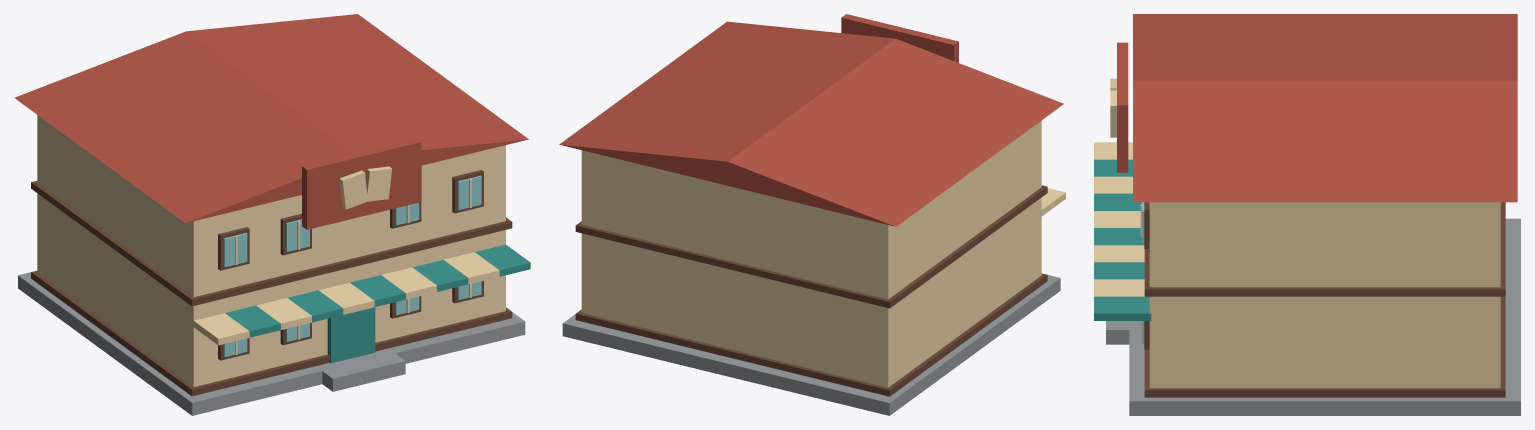
Rendered from library.glb.
3 renders of one model, left to right at view 1: azimuth 30°, elevation 25°; view 2: azimuth 150°, elevation 25°; view 3: azimuth 270°, elevation 25°, orthographic. The views are drawn at different scales.
Parts seen in each view (by area): view 1: gable_roof, walls, foundation, signboard, cornice.001, cornice, step, door, awning, awning.001, awning.008, awning.009 (+13 smaller); view 2: walls, gable_roof, foundation, cornice, cornice.001, signboard; view 3: gable_roof, walls, foundation, cornice, cornice.001, signboard, awning.009, awning.006, awning.007, awning.008, awning.005, awning.004 (+5 smaller).
Part boxes in pixels (x1,y1,x2,y2): gable_roof: [14, 14, 528, 223]; walls: [37, 115, 505, 386]; foundation: [18, 272, 525, 415]; signboard: [302, 138, 421, 229]; cornice.001: [31, 181, 512, 306]; cornice: [31, 270, 512, 396]; step: [316, 348, 405, 391]; door: [327, 307, 375, 363]; awning: [193, 313, 249, 345]; awning.001: [225, 305, 280, 337]; awning.008: [444, 252, 499, 284]; awning.009: [475, 244, 530, 276]; walls: [581, 120, 1041, 387]; gable_roof: [559, 21, 1063, 226]; foundation: [562, 275, 1060, 415]; cornice: [575, 273, 1047, 396]; cornice.001: [575, 185, 1047, 308]; signboard: [841, 14, 958, 62]; gable_roof: [1133, 14, 1517, 202]; walls: [1149, 202, 1500, 388]; foundation: [1129, 218, 1520, 415]; cornice: [1144, 296, 1505, 397]; cornice.001: [1144, 202, 1505, 296]; signboard: [1117, 42, 1128, 172]; awning.009: [1094, 296, 1151, 320]; awning.006: [1094, 245, 1144, 262]; awning.007: [1094, 262, 1144, 279]; awning.008: [1094, 279, 1144, 296]; awning.005: [1094, 228, 1144, 245]; awning.004: [1094, 211, 1140, 227].
Size of the model in its own units: 6.6 by 4.1 by 6.33.
